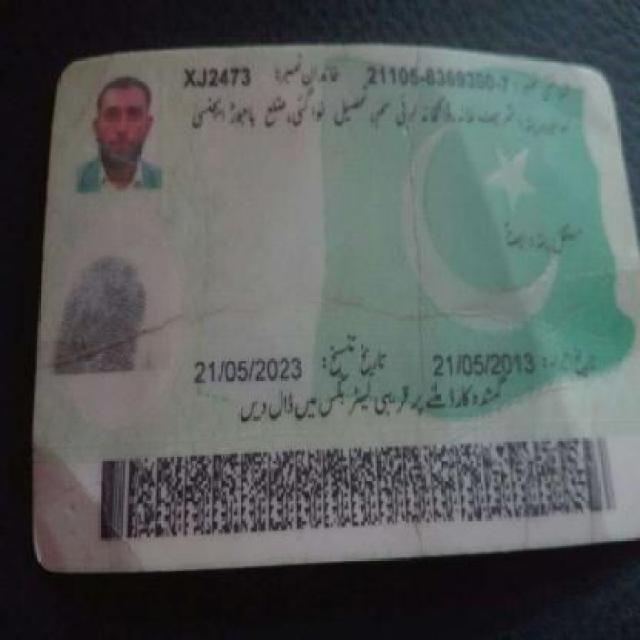Back: (21, 48, 634, 562)
